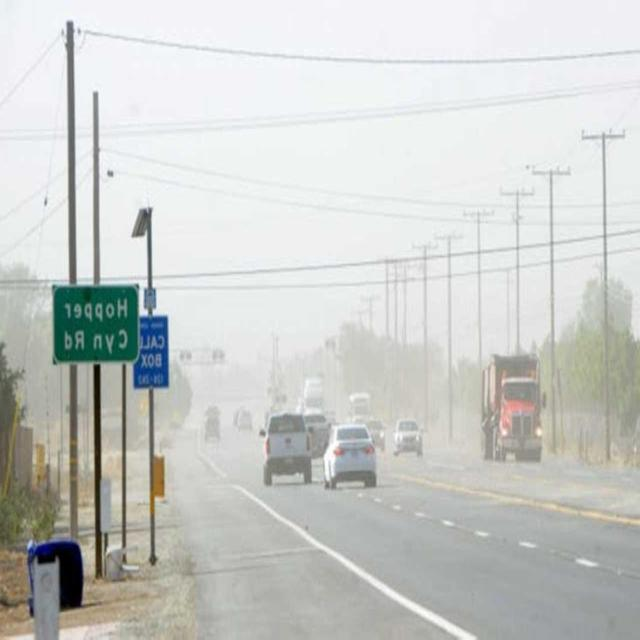Car: (322, 424, 379, 490), (392, 416, 426, 459)
Truck: (478, 354, 549, 462), (258, 410, 314, 486)
